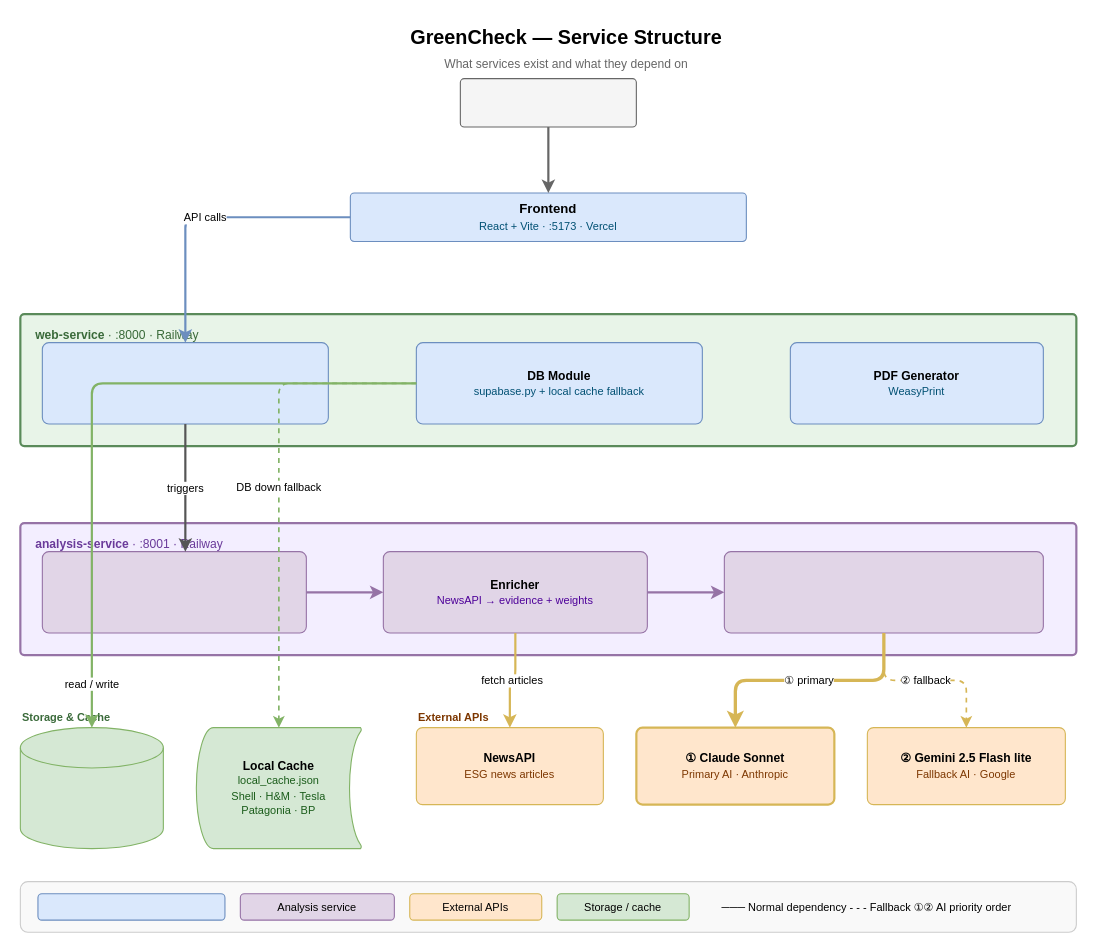
This 1096x952 diagram has some shape labels left out. The shapes that lost their labels are listed below. From the top down, each one's box as (x1, y1, x2, y2) in pixels, then its label:
(459, 78, 636, 127): Browser
(41, 342, 328, 424): Routes /api/analyze · /api/report · /api/history
(41, 551, 306, 633): Scraper Playwright · Google search
(723, 551, 1043, 633): Analyzer 5-dimension scoring · TCFD · GRI · EU GCD
(19, 727, 163, 849): Supabase PostgreSQL jobs · flags · cache
(37, 893, 225, 920): Frontend / web-service
